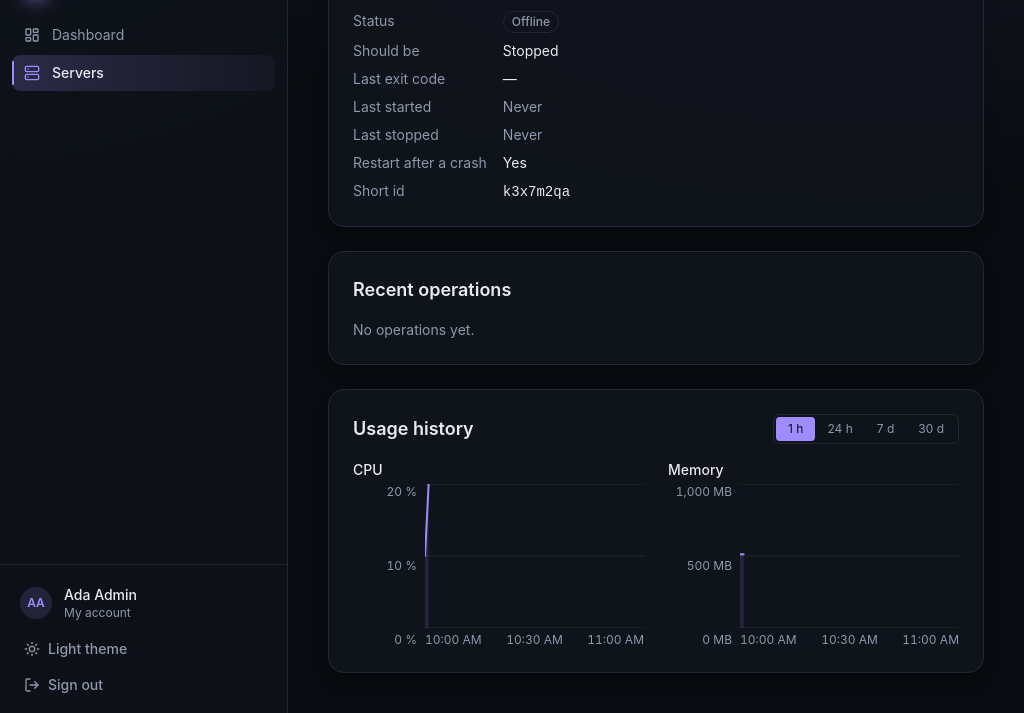
usage history › charts CPU and memory, and players only when the game answered queries
(page scrolled)
Expected: the element named "CPU over time" is shown, [425,484,644,648]
Expected: the element named "Memory over time" is shown, [740,484,959,648]
Click the button "7 d" at {"x": 886, "y": 429}, box [865,417,906,441]
(page scrolled)
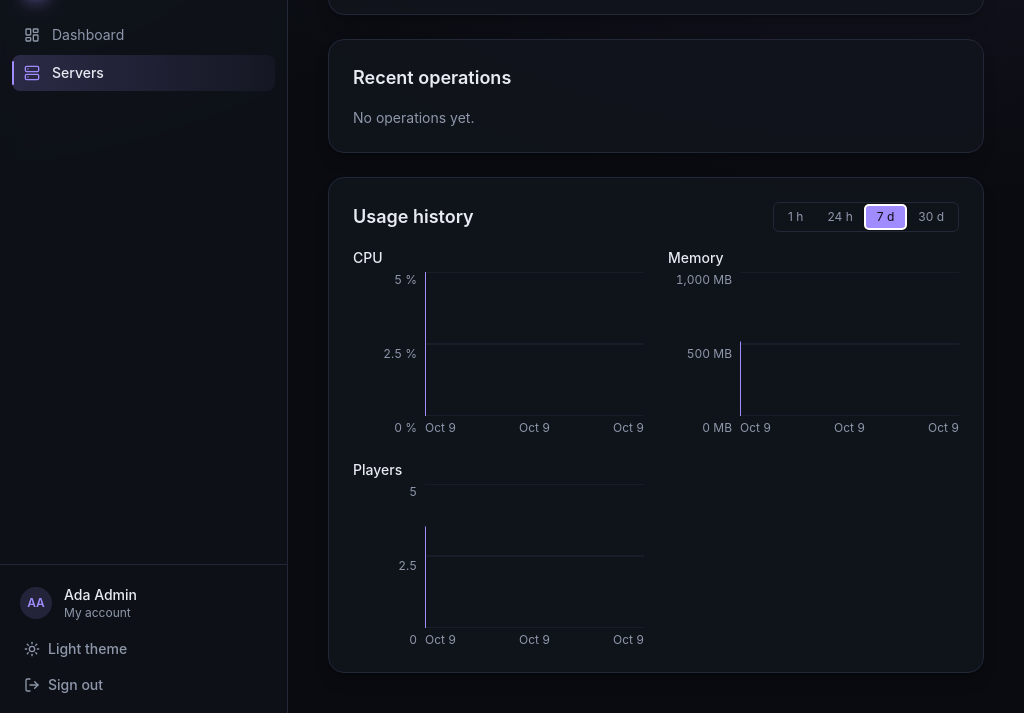
Expected: the element named "Players over time" is shown, [425,484,644,648]
